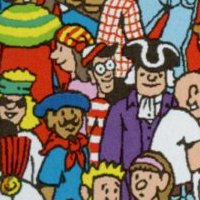waldo: (87, 43, 115, 93)
